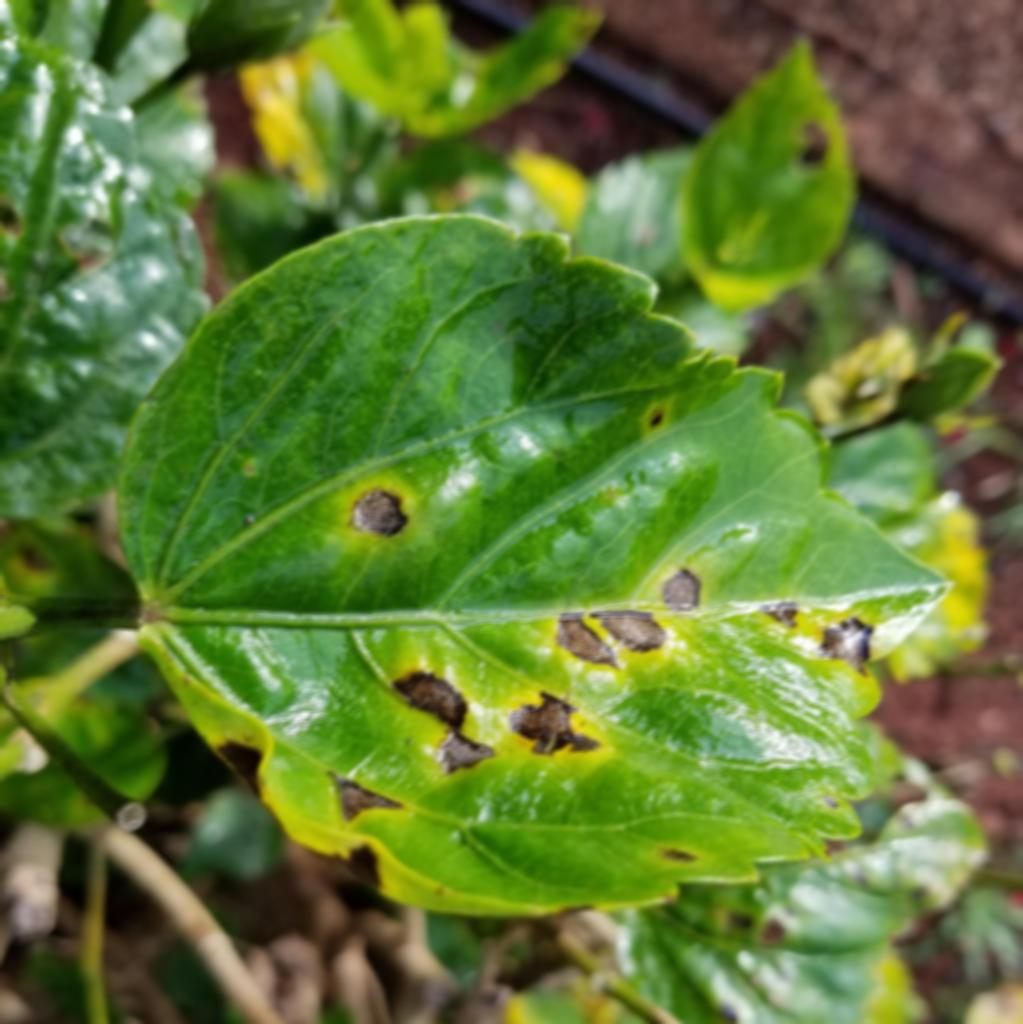Tomato leaf bacterial spot: (119, 202, 961, 924)
